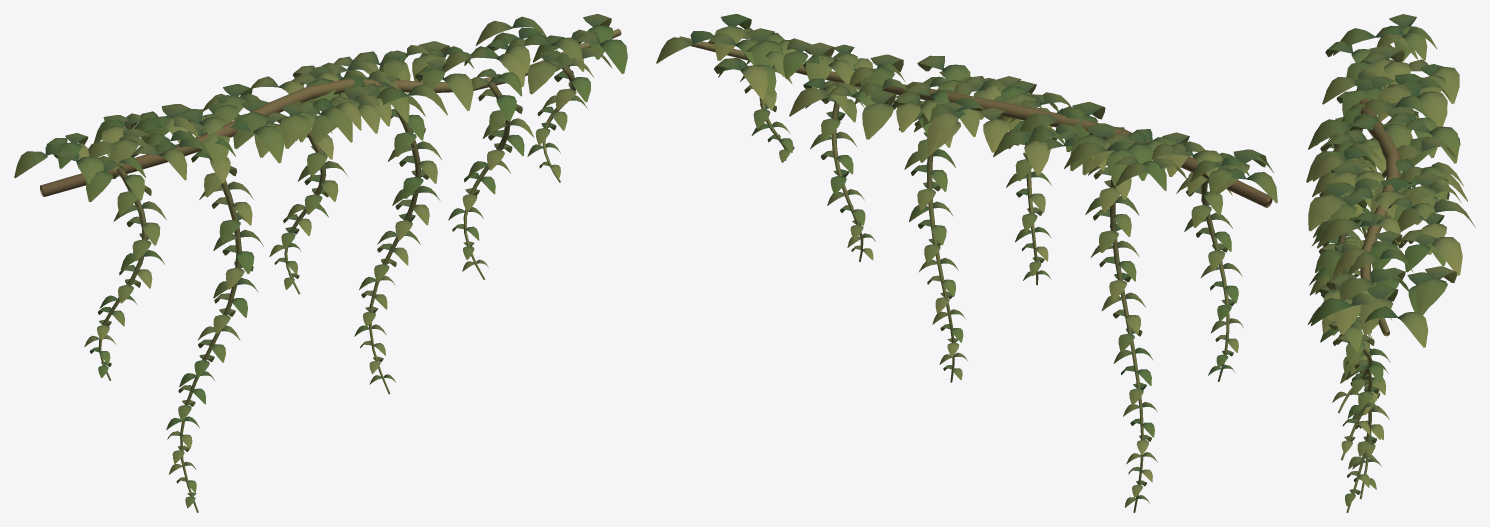
3 views of the same model, side by side, from view 1: azimuth 30°, elevation 25°; view 2: azimuth 150°, elevation 25°; view 3: azimuth 270°, elevation 25° (orthographic). The views are drawn at different scales.
Visible parts, largest first — view 1: Leaves, Stems; view 2: Leaves, Stems; view 3: Leaves, Stems.
Part boxes in pixels (bbox=[...]): Leaves: bbox=[14, 14, 627, 508]; Stems: bbox=[40, 28, 621, 512]; Leaves: bbox=[656, 14, 1277, 507]; Stems: bbox=[679, 36, 1272, 512]; Leaves: bbox=[1306, 14, 1475, 506]; Stems: bbox=[1334, 44, 1400, 512].
Size of the model in its own units: 2.75 by 1.69 by 0.6257.
